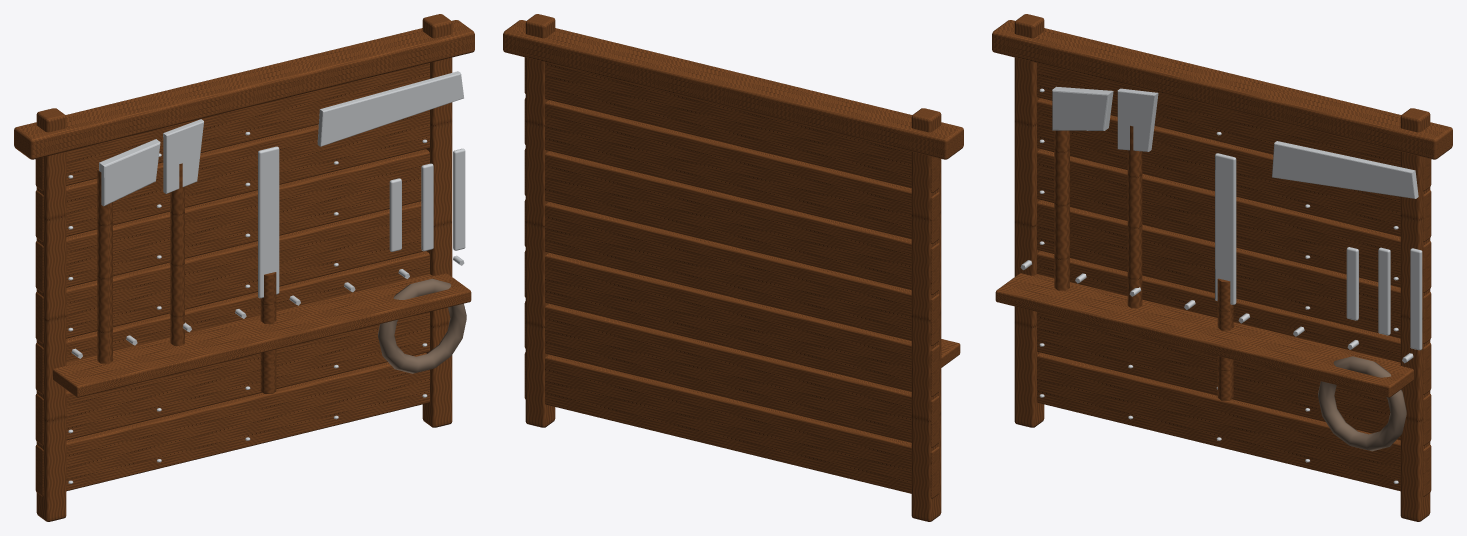
Rendered from fps-survival-forest-outpost-tool-wall-e06c2052__32637.glb.
The picture shows the model from 3 angles, left to right: view 1: azimuth 30°, elevation 25°; view 2: azimuth 150°, elevation 25°; view 3: azimuth 330°, elevation 25°; orthographic projection.
Parts seen in each view (by area): view 1: tool-wall; view 2: tool-wall; view 3: tool-wall.
Boxes of the visible parts, <box> form: tool-wall: <box>14,14,474,521</box>; tool-wall: <box>503,14,963,521</box>; tool-wall: <box>992,14,1452,521</box>.
Bounding box in the file's own units: 1.96 × 1.7 × 0.3.
Materials: 3 (1 with a texture image).
